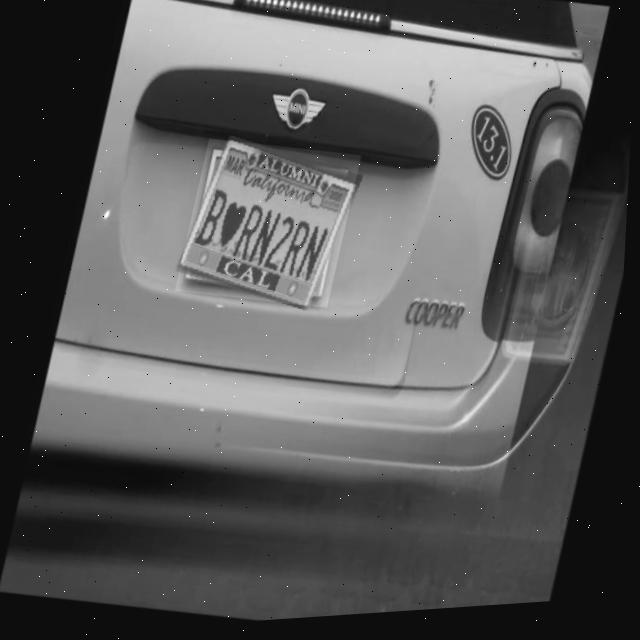LicensePlate: (177, 133, 364, 321)
